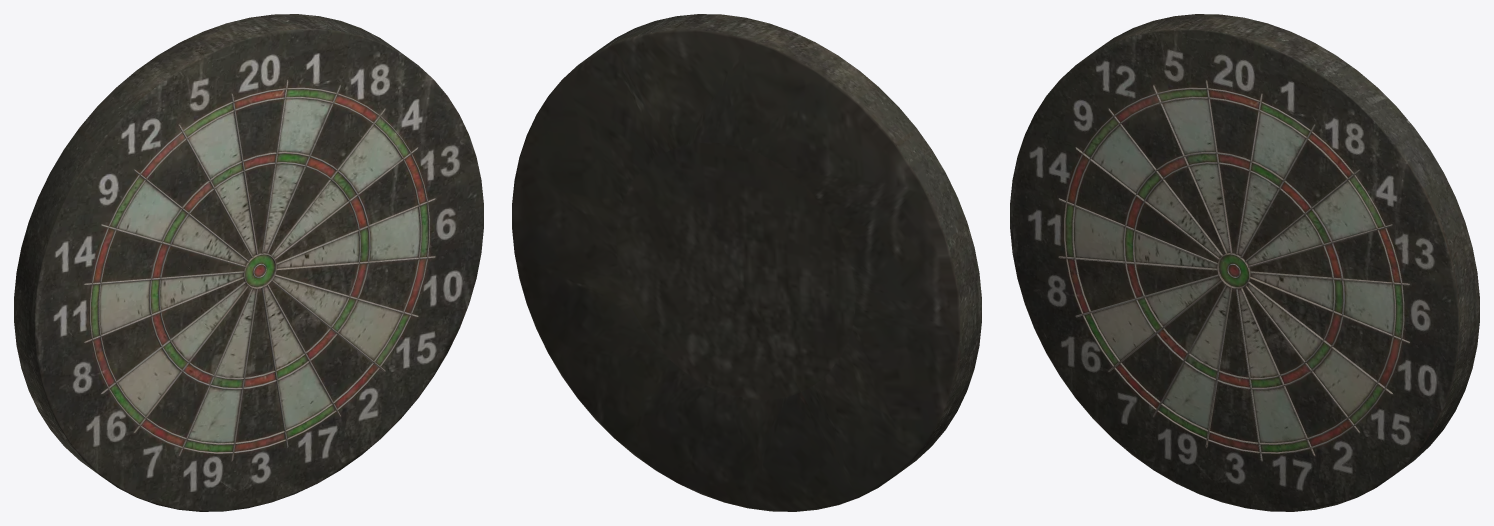
Rendered from dartboard.glb.
3 views of the same model, side by side, from view 1: azimuth 30°, elevation 25°; view 2: azimuth 150°, elevation 25°; view 3: azimuth 330°, elevation 25° (orthographic).
Parts seen in each view (by area): view 1: dartboard; view 2: dartboard; view 3: dartboard.
Part boxes in pixels (x1,y1,x2,y2): dartboard: (14, 14, 483, 511); dartboard: (512, 14, 981, 511); dartboard: (1010, 14, 1479, 511).
Bounding box in the file's own units: 0.4507 × 0.4507 × 0.0398.
1 material, 1 textured.
